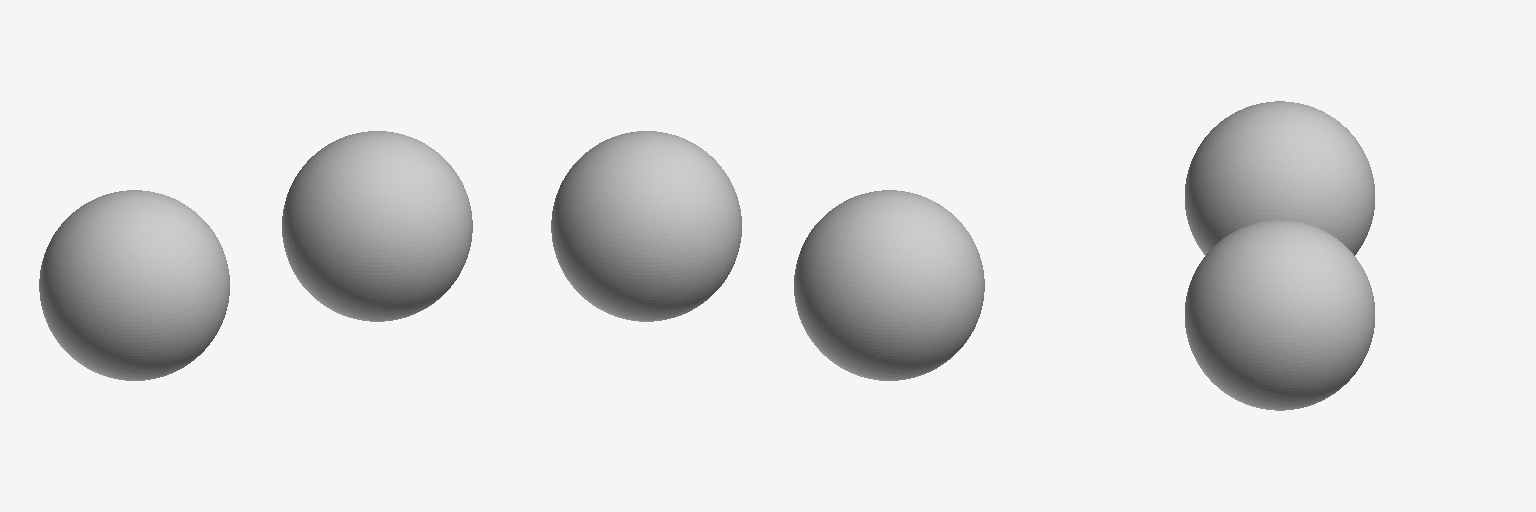
Rendered from eyes owl.obj.
The picture shows the model from 3 angles: view 1: azimuth 30°, elevation 25°; view 2: azimuth 150°, elevation 25°; view 3: azimuth 270°, elevation 25°; orthographic projection.
Parts seen in each view (by area): view 1: Group4336; view 2: Group4336; view 3: Group4336.
Boxes of the visible parts, x1=… form: Group4336: x1=39, y1=131, x2=472, y2=380; Group4336: x1=551, y1=131, x2=984, y2=380; Group4336: x1=1185, y1=101, x2=1374, y2=410.
Bounding box in the file's own units: 1.79 × 0.725 × 0.725.